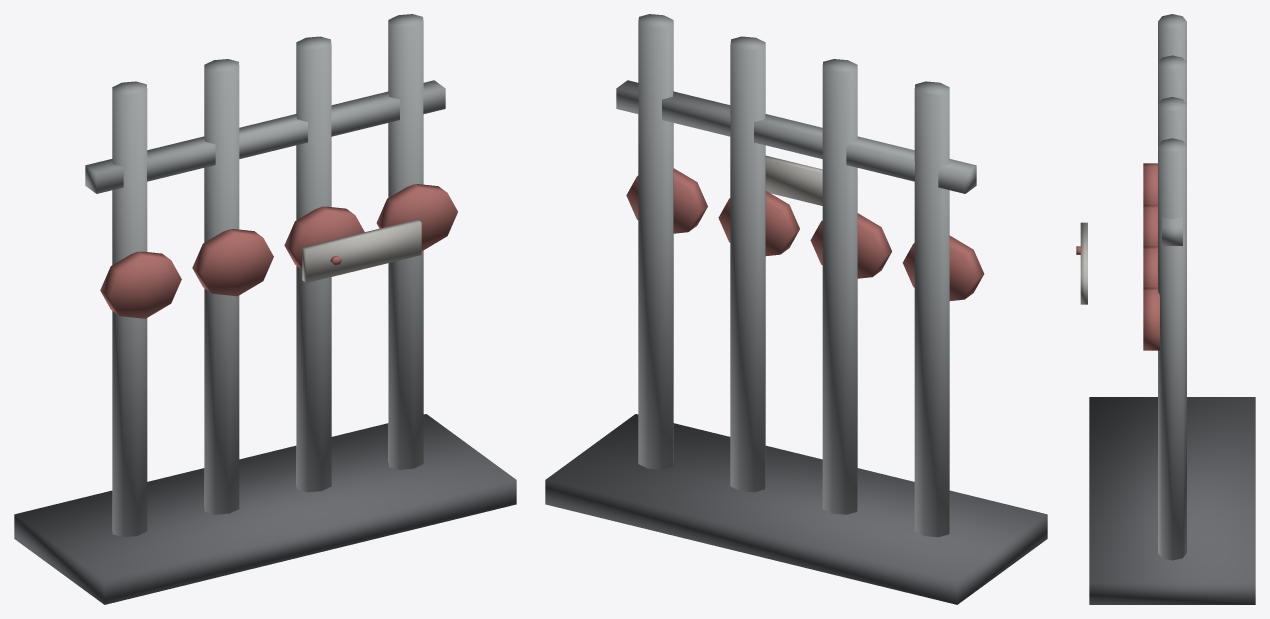
The model's file is radiator_manifold__wide.glb.
3 renders of one model, left to right at view 1: azimuth 30°, elevation 25°; view 2: azimuth 150°, elevation 25°; view 3: azimuth 270°, elevation 25°, orthographic. The views are drawn at different scales.
Parts seen in each view (by area): view 1: world; view 2: world; view 3: world.
Boxes of the visible parts, x1=… form: world: x1=14, y1=14, x2=516, y2=604; world: x1=545, y1=14, x2=1047, y2=604; world: x1=1076, y1=14, x2=1255, y2=604.
Size of the model in its own units: 1.05 by 1.14 by 0.431.
